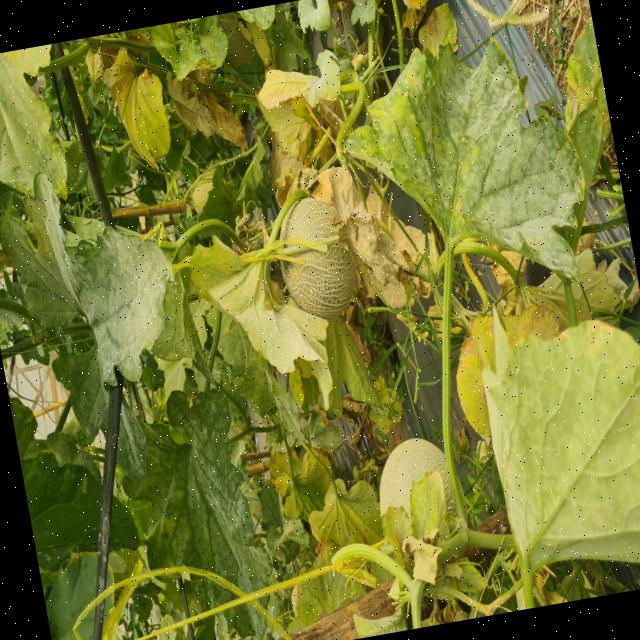melon: (279, 240, 355, 319), (379, 436, 455, 514), (280, 195, 337, 241)
